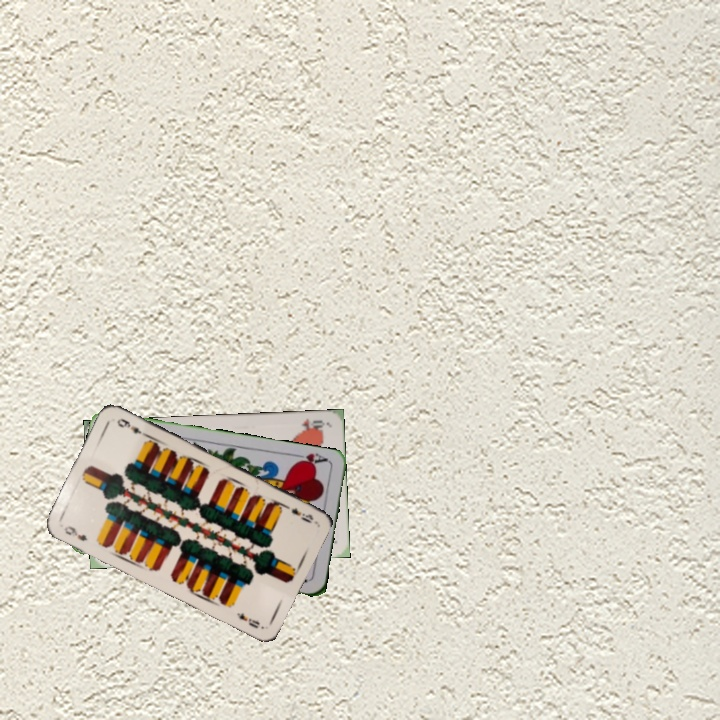E9: (279, 500, 316, 526), (60, 522, 90, 544)
HA: (290, 449, 331, 469)
HO: (297, 415, 328, 434)
